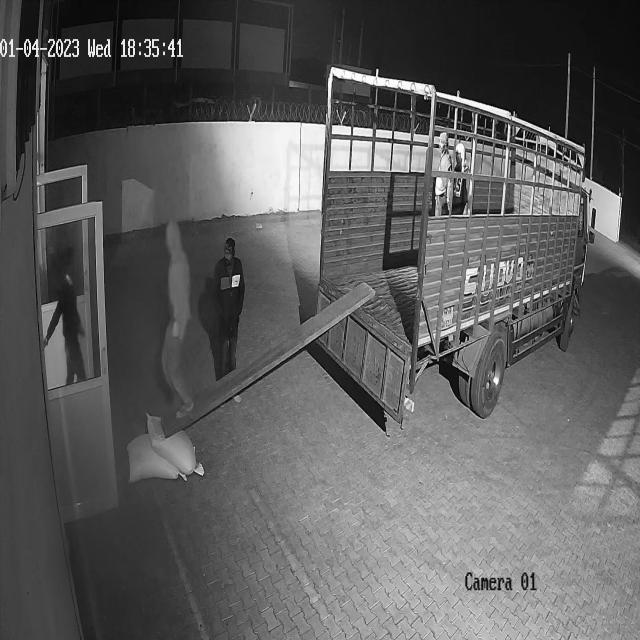sack: (145, 412, 204, 475), (126, 434, 185, 481)
